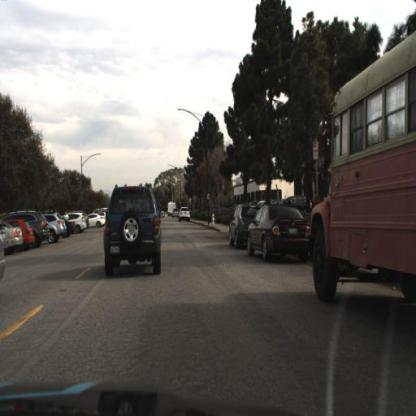car: (102, 185, 163, 280), (247, 204, 315, 262), (8, 211, 52, 246), (231, 204, 263, 251), (63, 212, 89, 237), (85, 212, 110, 233), (180, 209, 192, 223)
pedestrian: (63, 206, 73, 241)
truck: (309, 42, 416, 305)
